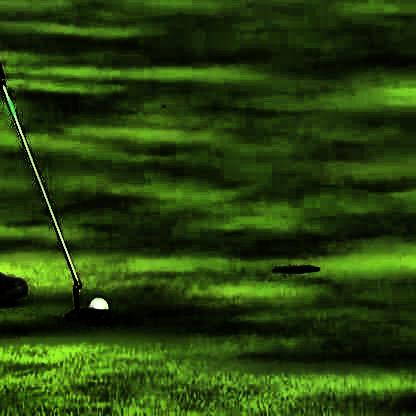golfball: (89, 294, 108, 310)
